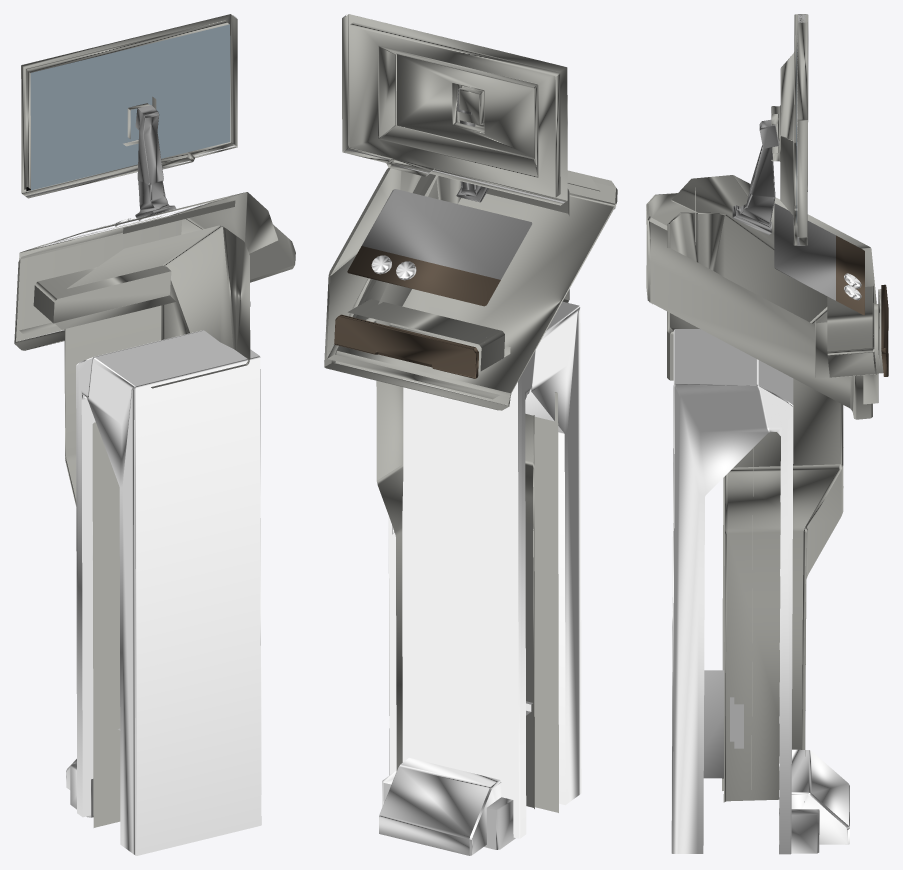
Rendered from ext_elevator_terminal_a.glb.
3 renders of one model, left to right at view 1: azimuth 30°, elevation 25°; view 2: azimuth 150°, elevation 25°; view 3: azimuth 270°, elevation 25°, orthographic. The views are drawn at different scales.
Size of the model in its own units: 0.4176 by 1.43 by 0.4148.
